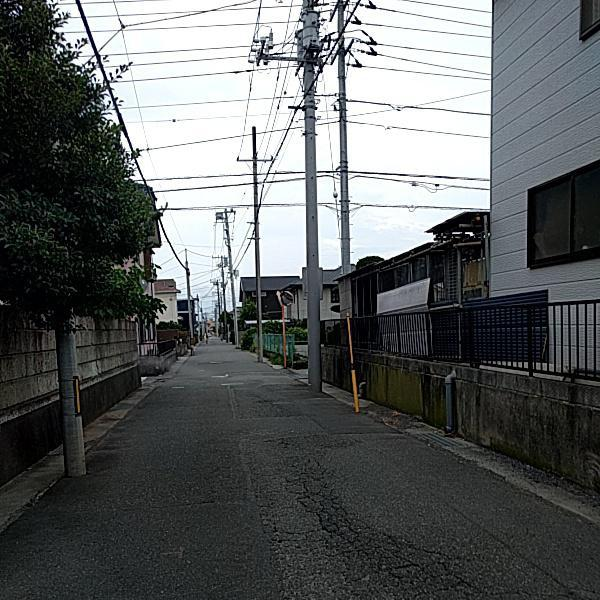D20: (274, 447, 487, 599)
